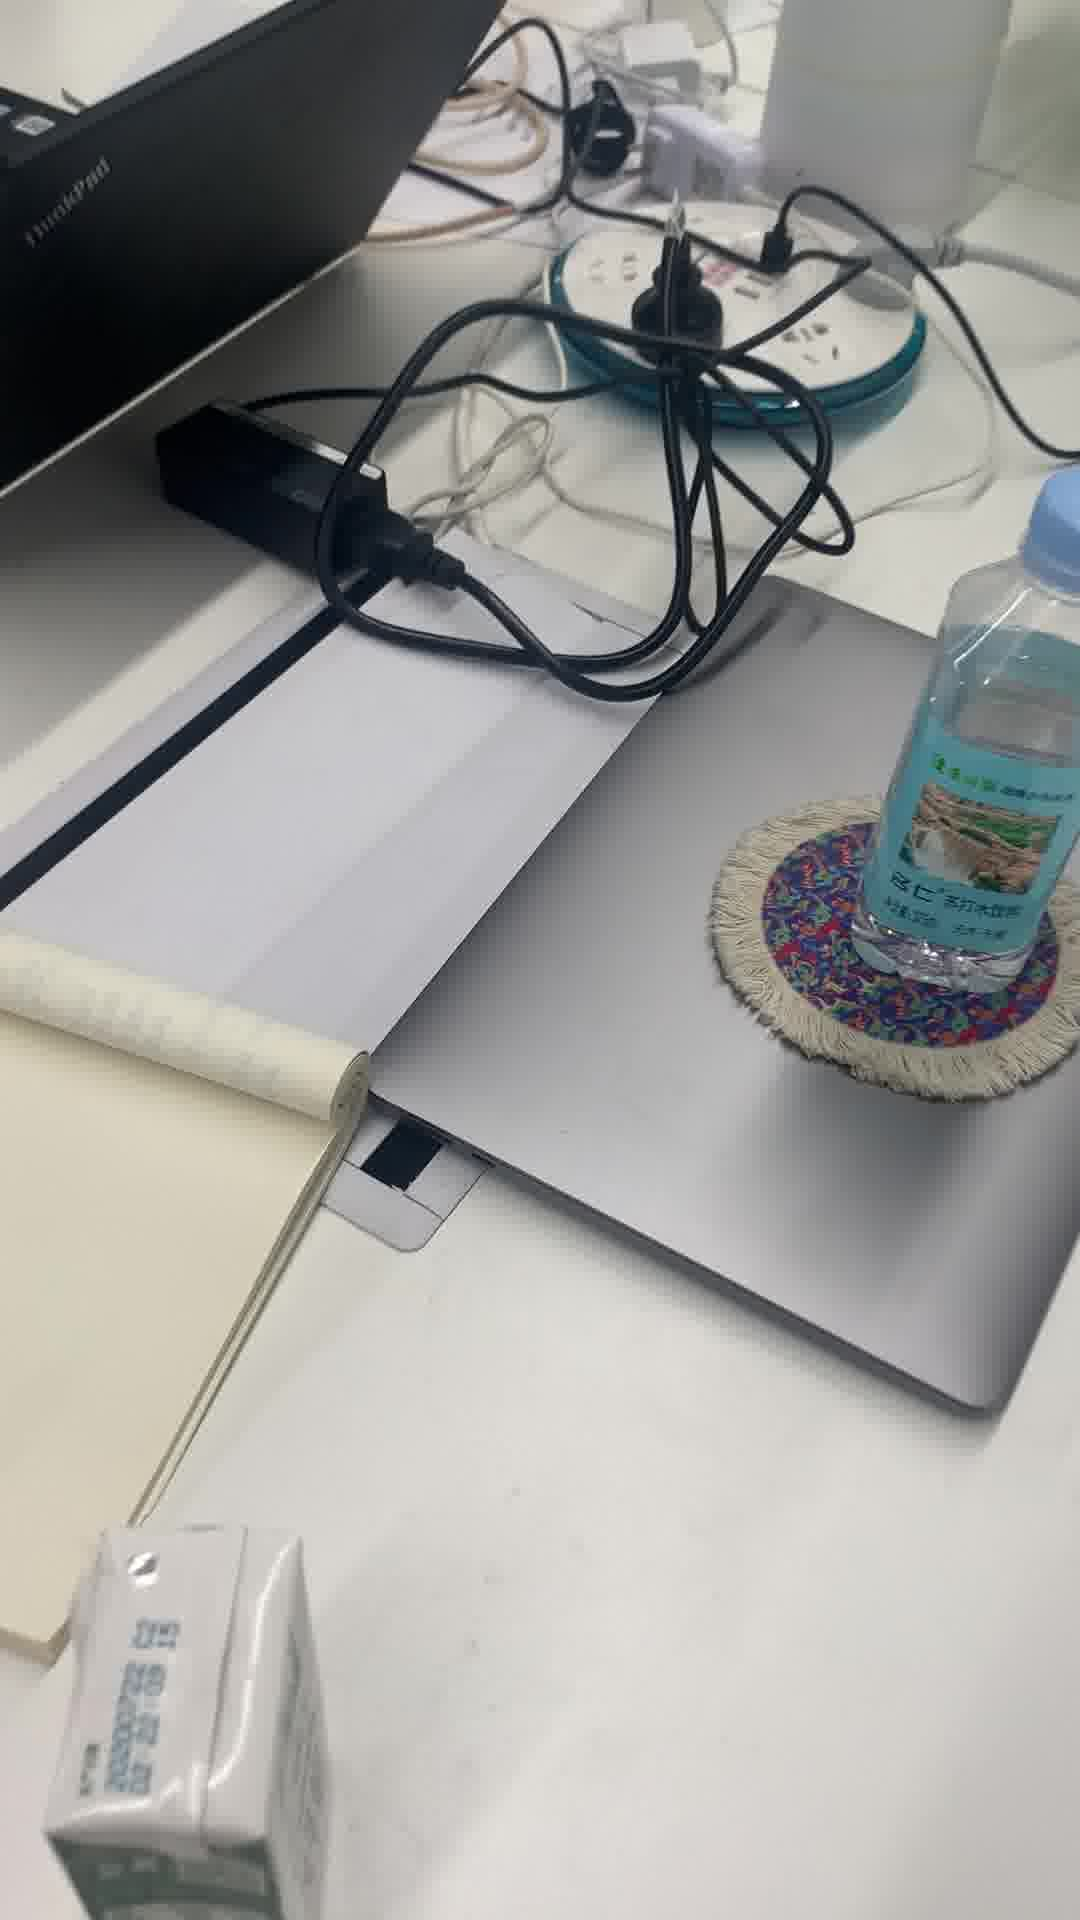水瓶: (858, 448, 1080, 996)
